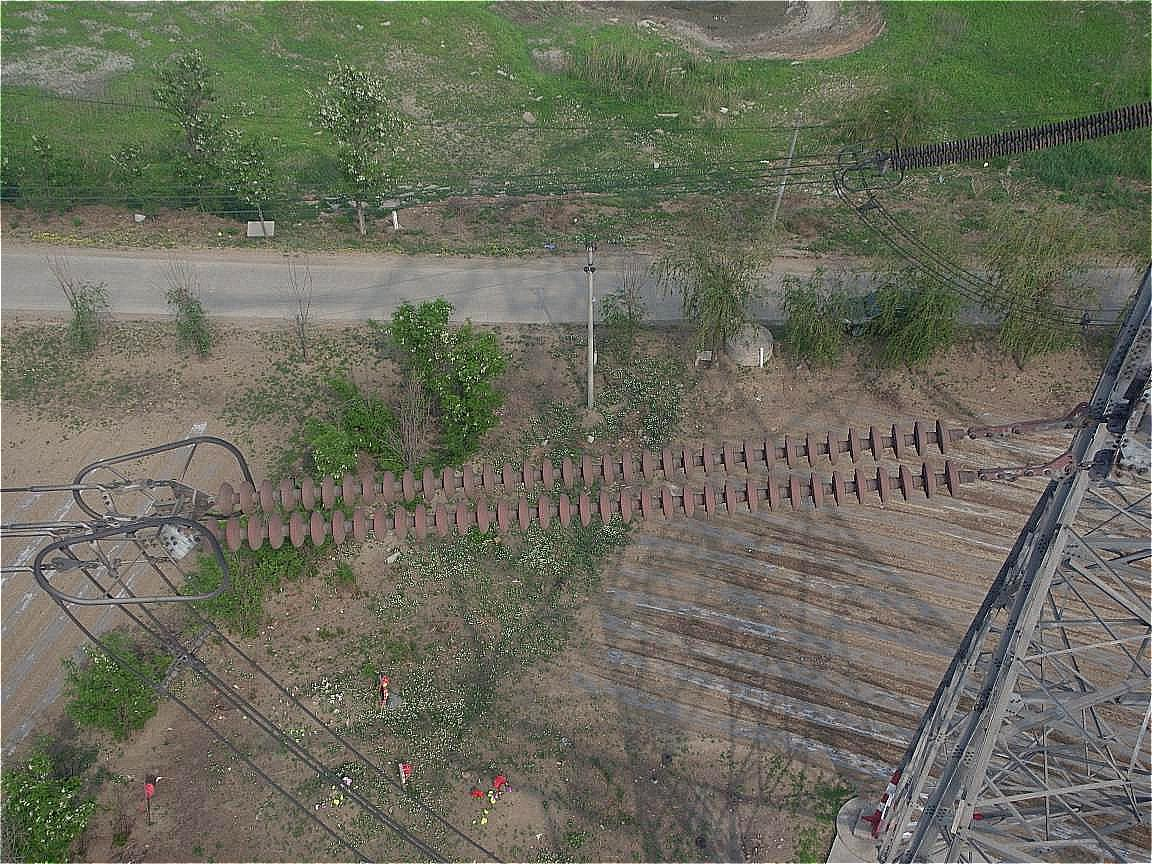insultor1: (185, 404, 978, 555)
